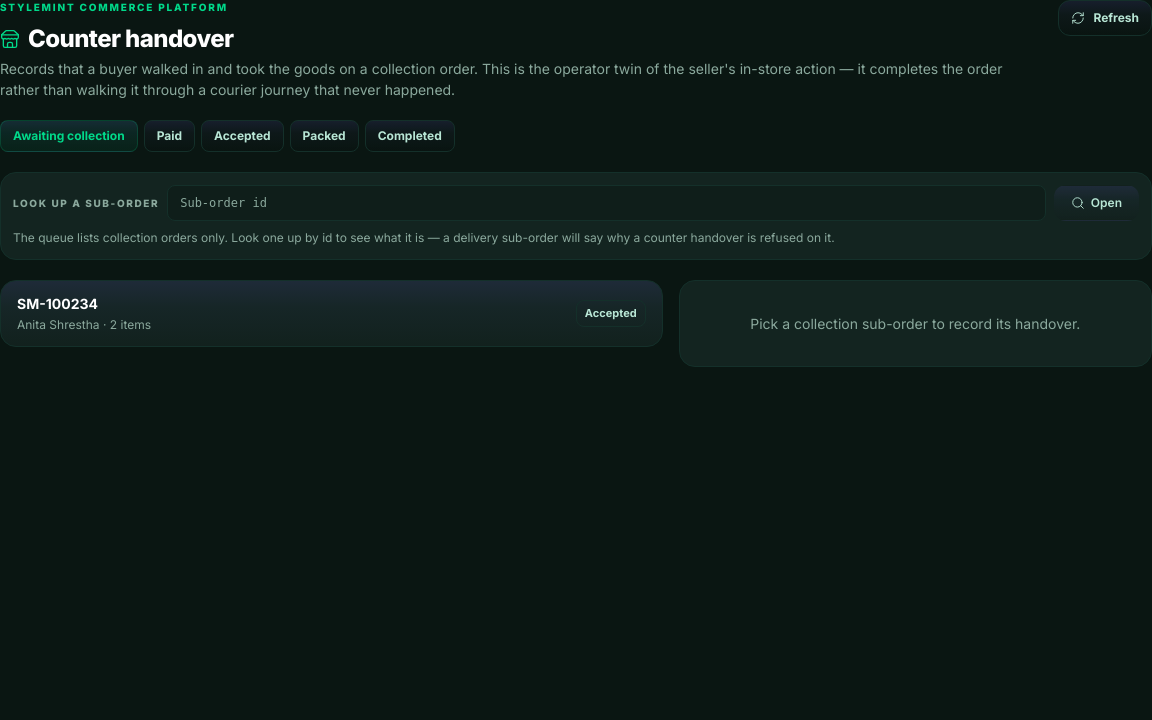
Scenario: CounterHandoverPage › names the consequences in the confirmation instead of asking "are you sure?"
This screenshot has width=1152, height=720.
Click the text "SM-100234" at (58, 304), box [17,295,98,312]
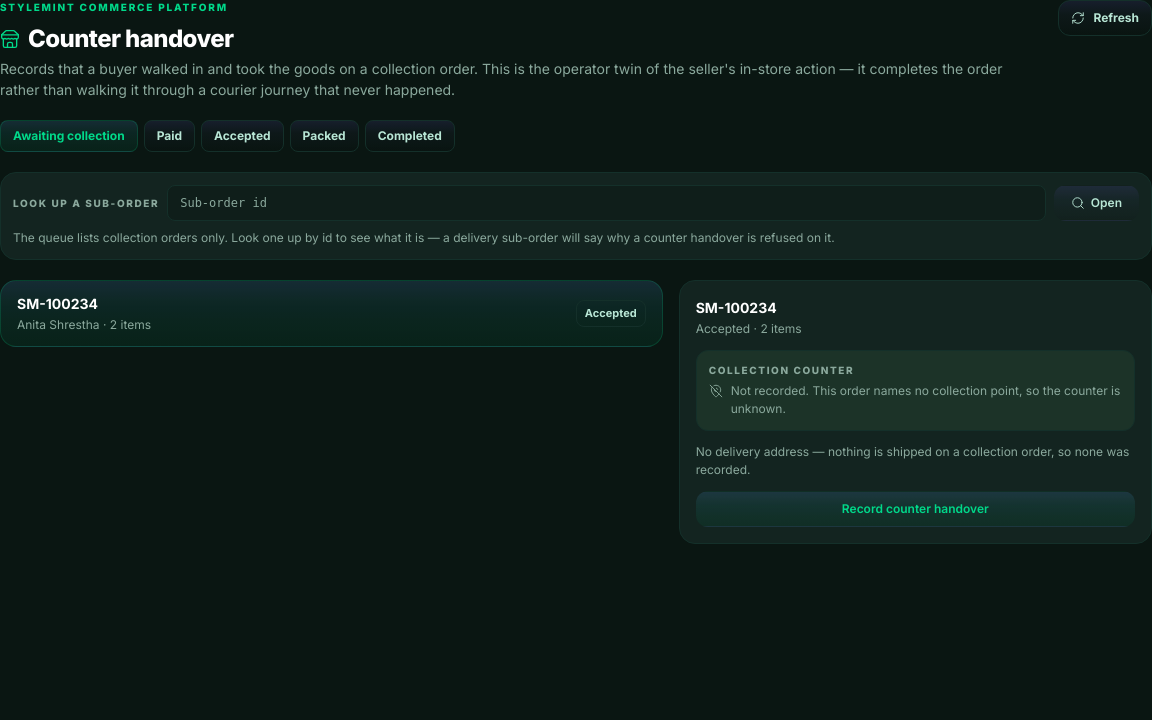
Click the button "Record counter handover" at (915, 509), box [696,491,1135,527]
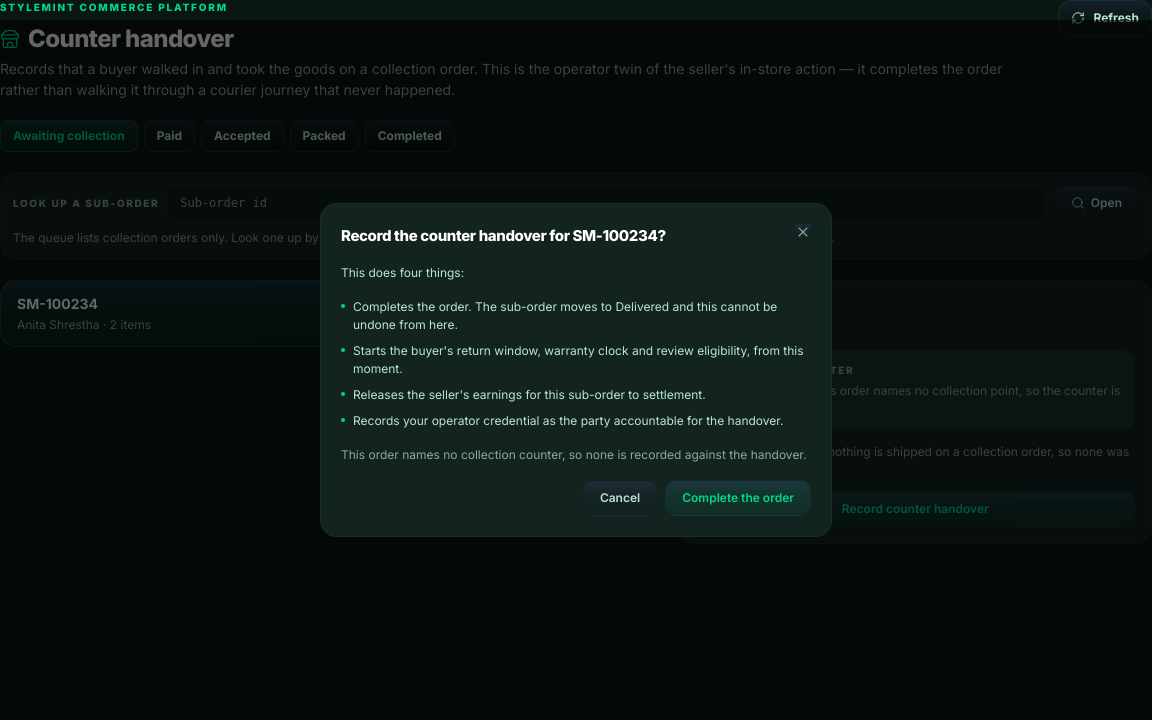
Expected: the heading "Record the counter handover for SM-100234?" is shown, [341,224,666,248]
Expected: the text "return window" is shown, [353,343,804,376]
Expected: the text "Releases the seller's earnings" is shown, [353,387,706,402]
